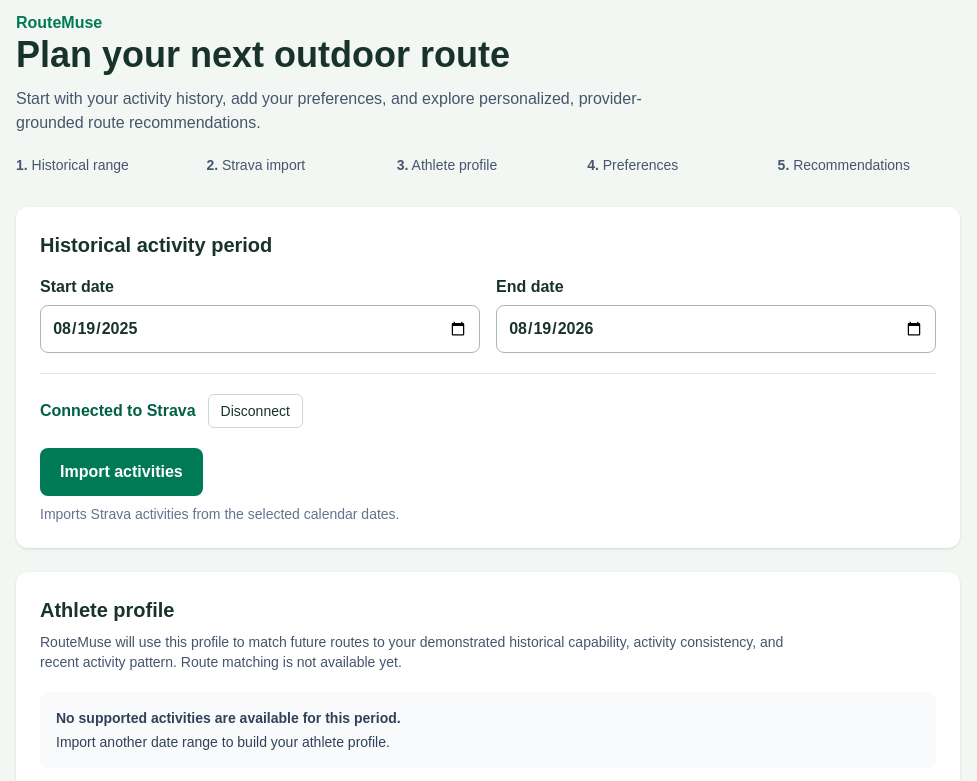
PlannerForm › refreshes the profile after a completed synchronization
This screenshot has width=977, height=781.
Expected: the text "Connected to Strava" is shown, [40,399,196,423]
Click the button "Import activities" at (121, 472), box [40,448,203,496]
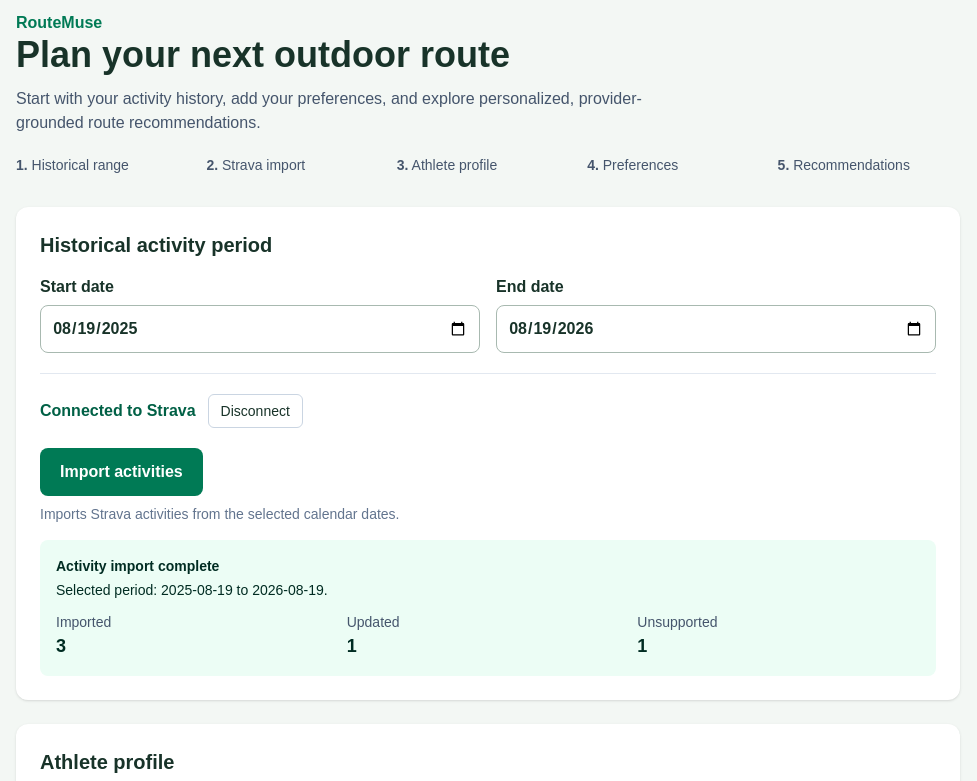
Now the text "Activity import complete" is shown, box [56,558,219,574]
